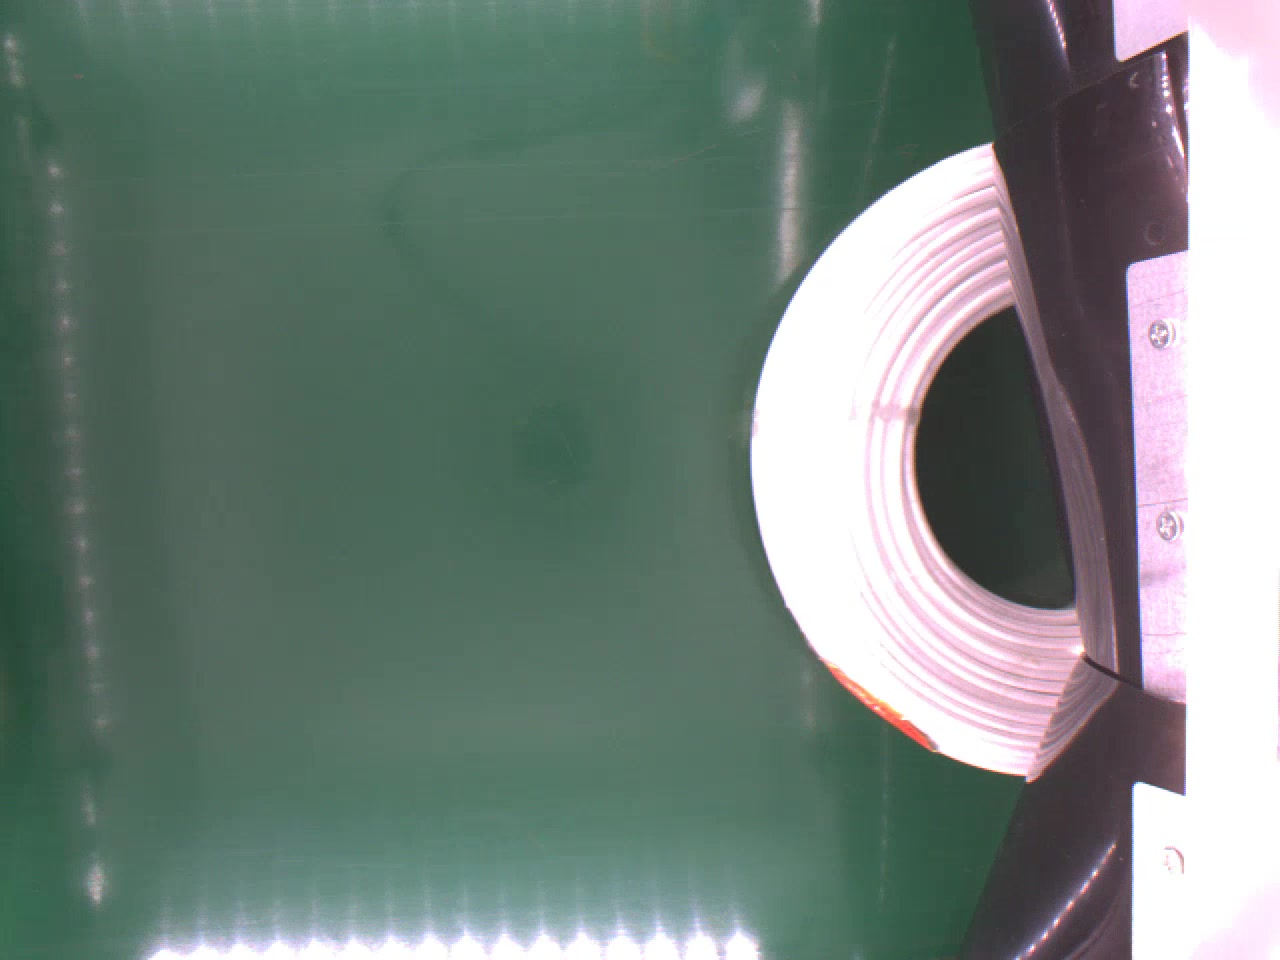white: (747, 138, 1082, 775)
